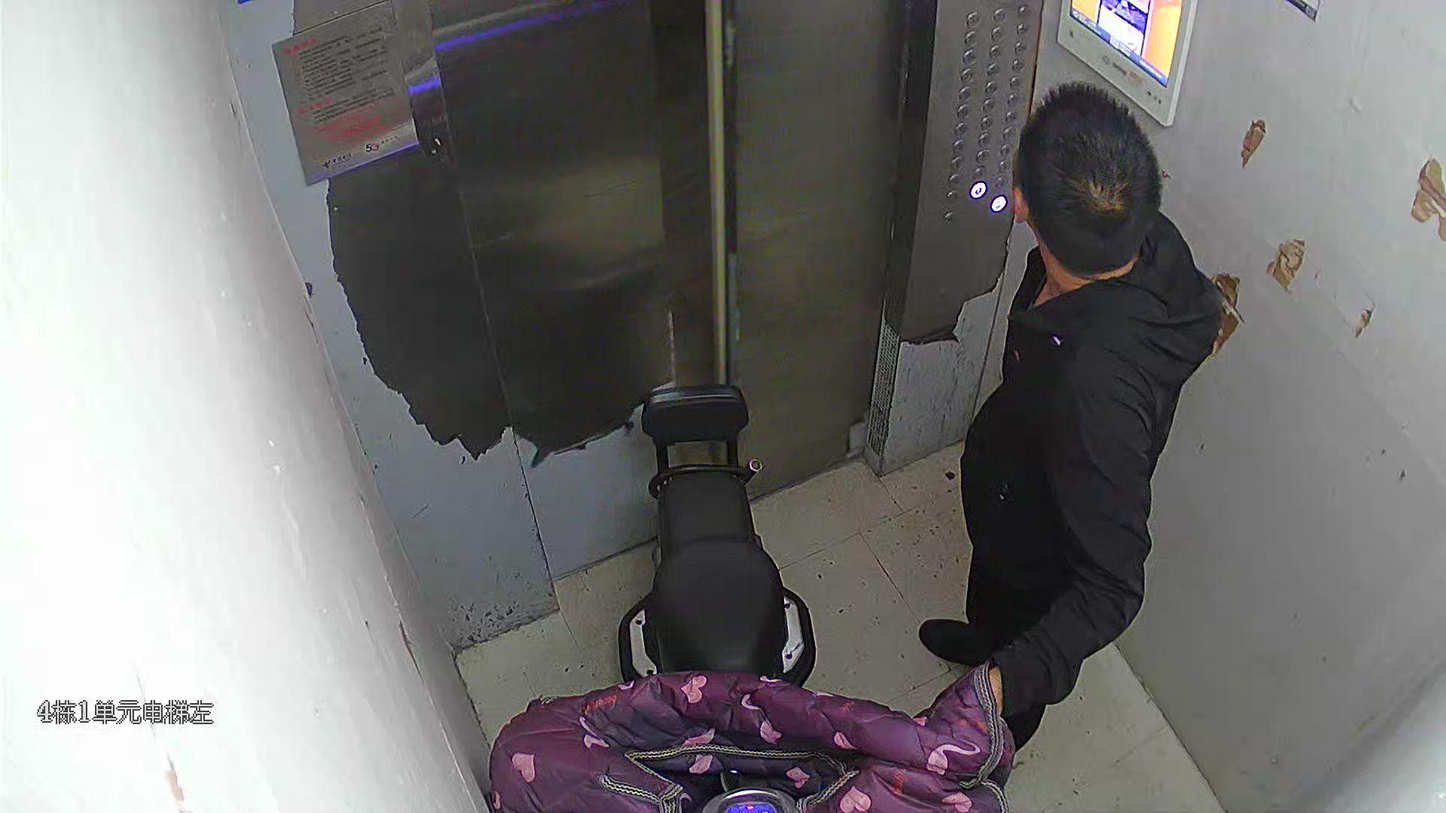Electric-bicycle: (615, 373, 822, 812)
